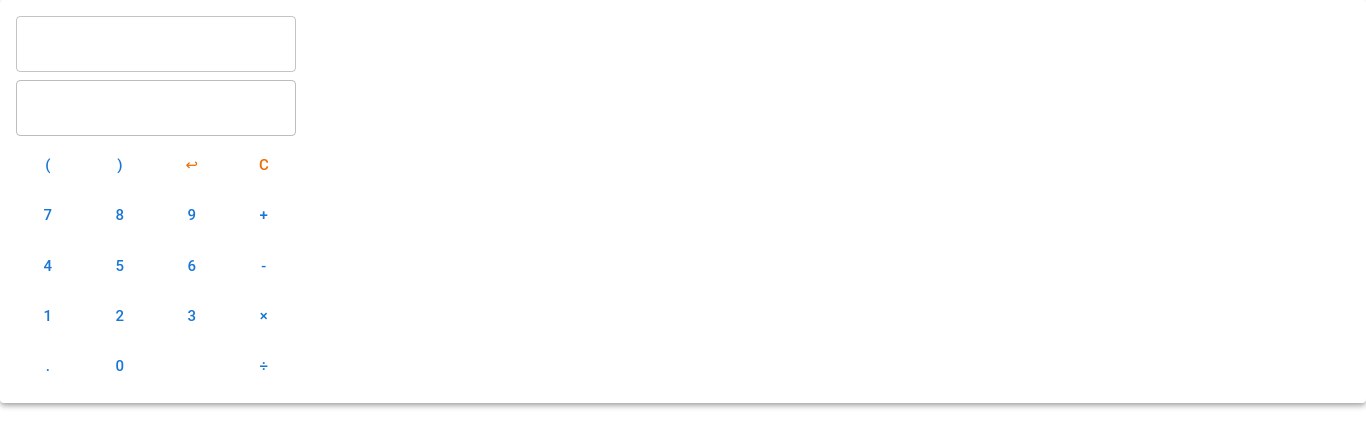
Test: Calculator › shows the result of a - calculation
The image size is (1366, 426).
Click the button "5".
click(120, 266)  # box [88, 244, 152, 287]
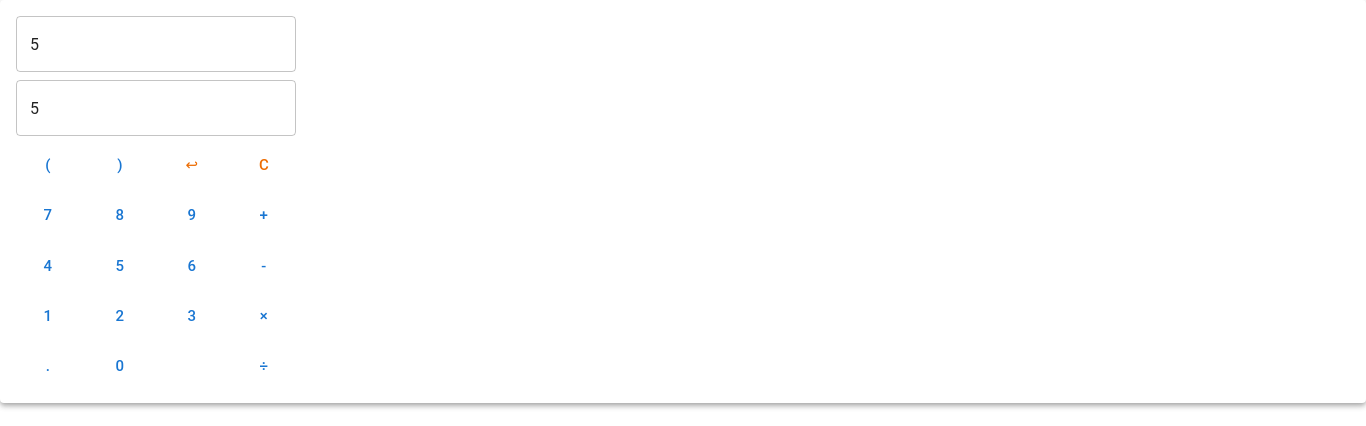
Click the button "-".
click(264, 266)  # box [232, 244, 296, 287]
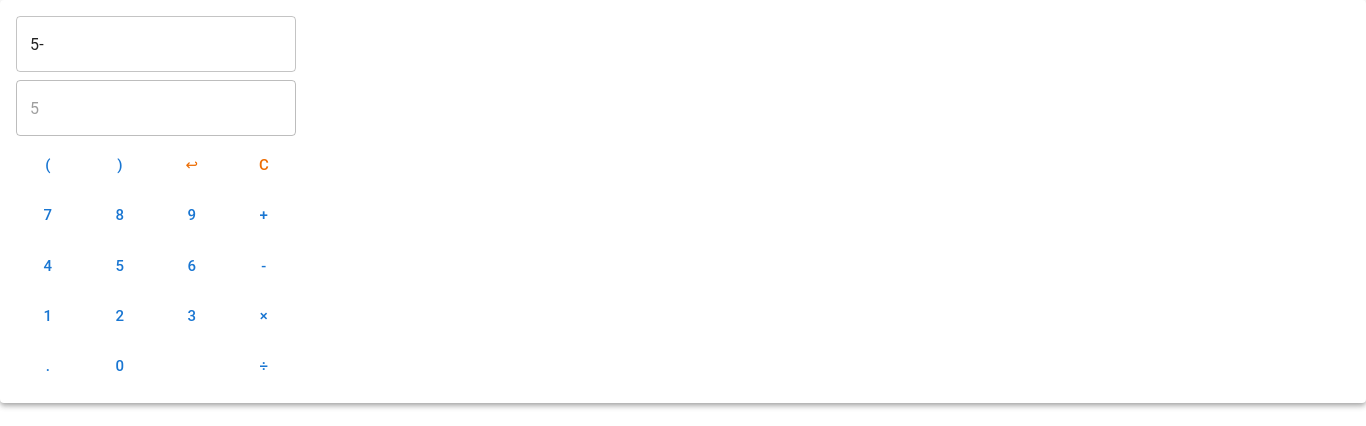
Click the button "7".
click(48, 215)  # box [16, 194, 80, 237]
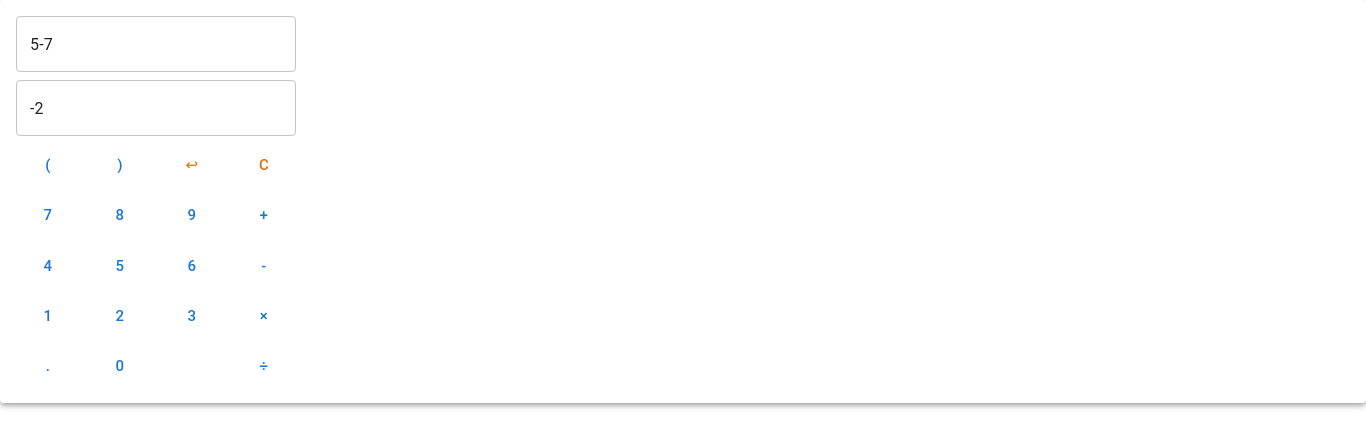
expect the field with test id "output" holds "-2": met, box [16, 80, 296, 136]
